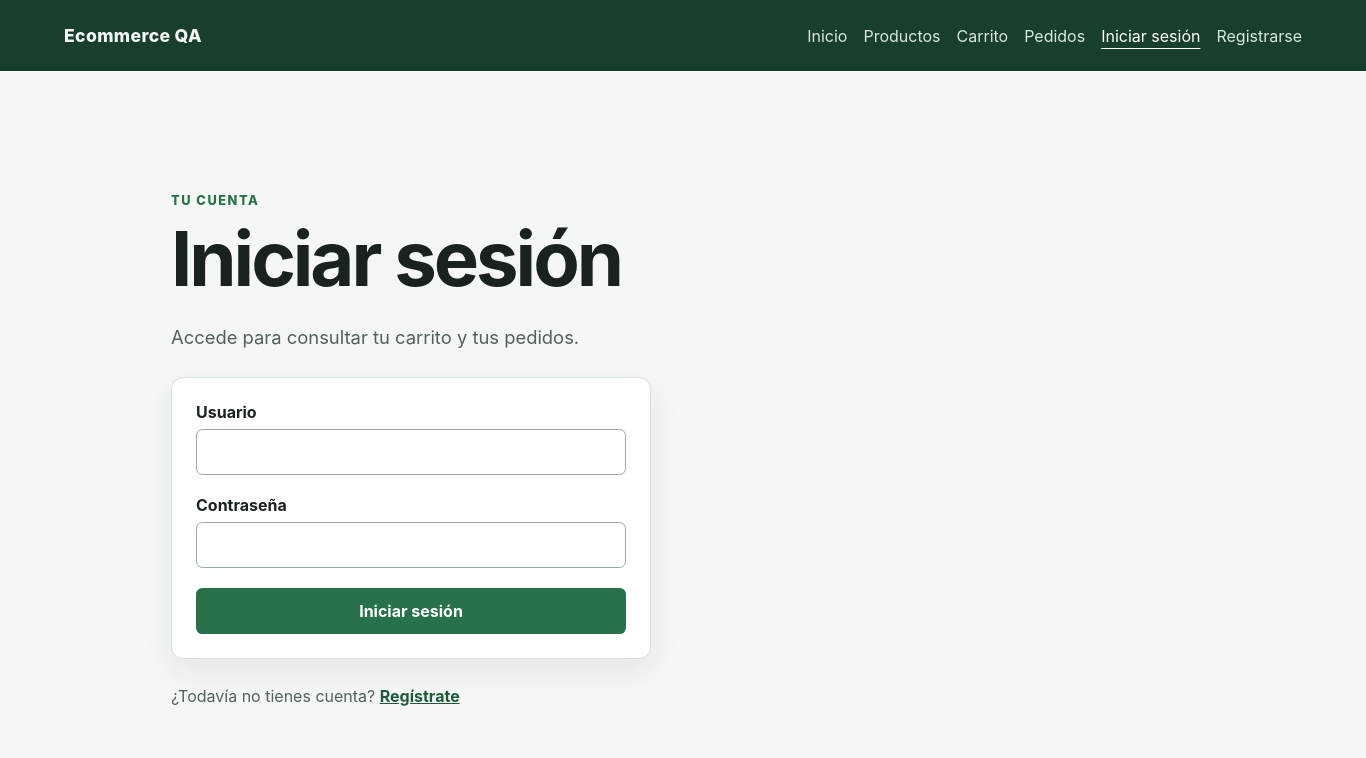
flujo de autenticación › muestra el error devuelto por un login incorrecto
This screenshot has width=1366, height=758.
Step 1. Type "santi" into the field labelled "Usuario" → point(411, 452), box [196, 429, 626, 475]
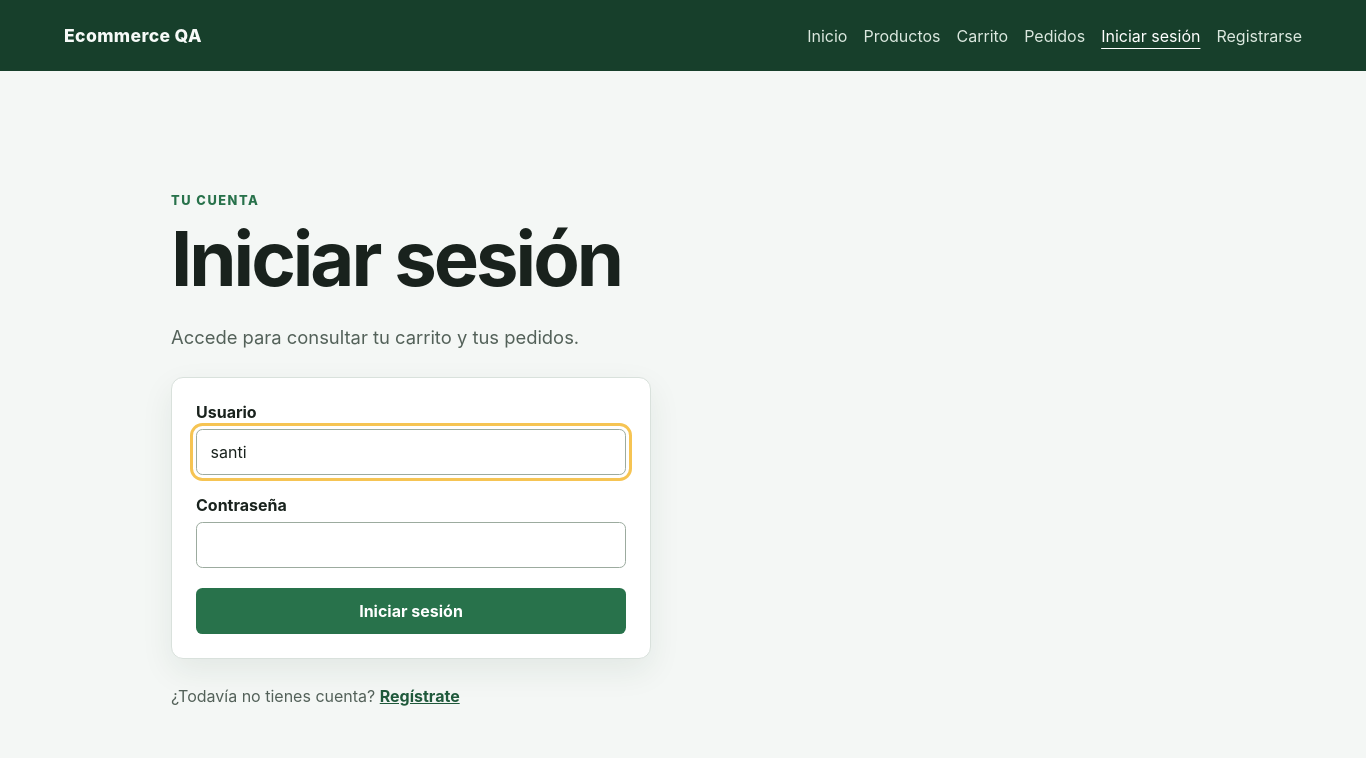
Step 2. Type "incorrecta" into the password field labelled "Contraseña" → point(411, 545), box [196, 522, 626, 568]
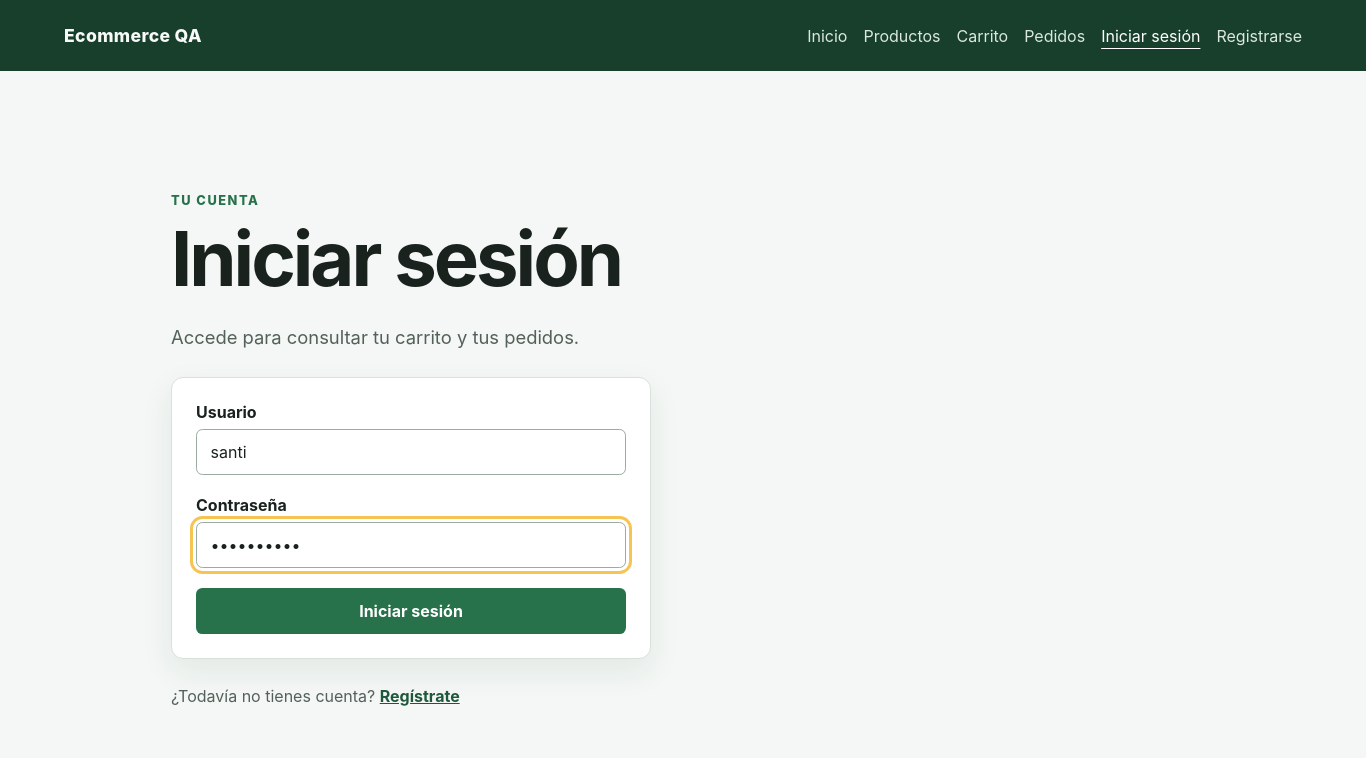
Step 3. Click the button "Iniciar sesión" → point(411, 611), box [196, 588, 626, 634]
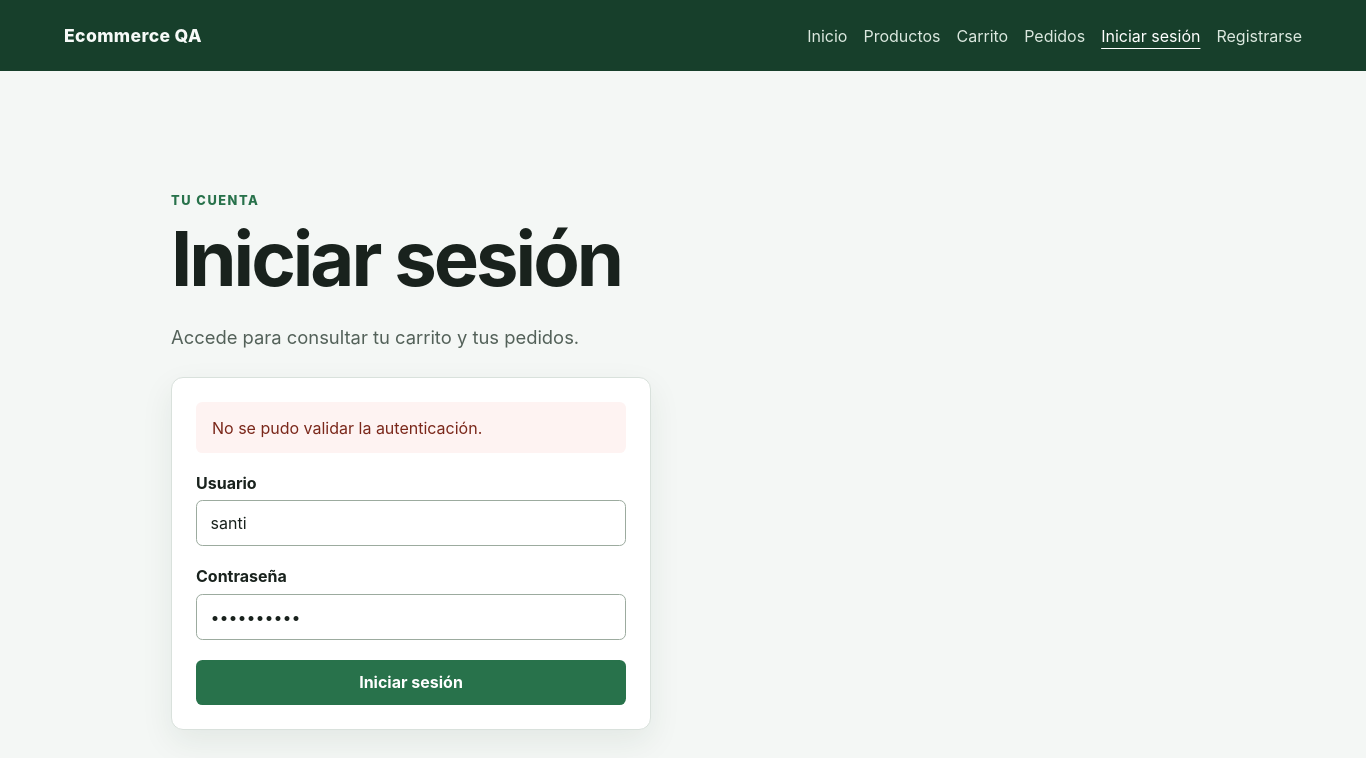
Expected: the text "No se pudo validar la autenticación." is shown, [196, 402, 626, 453]
